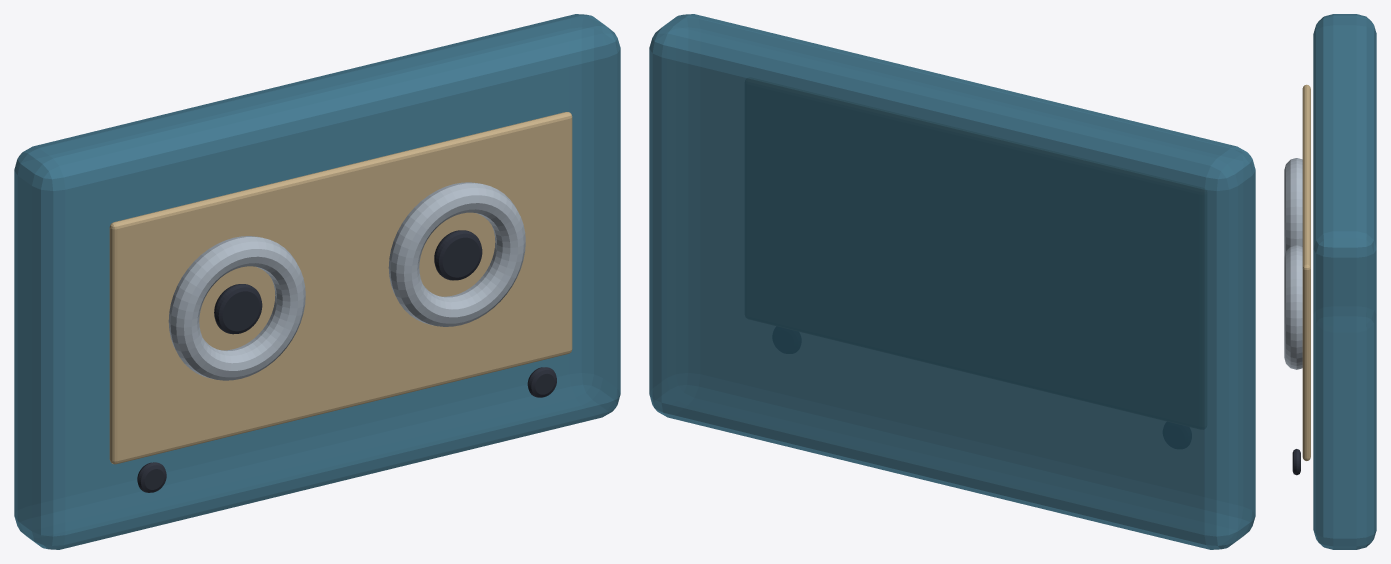
Rendered from cassette-collector.glb.
3 renders of one model, left to right at view 1: azimuth 30°, elevation 25°; view 2: azimuth 150°, elevation 25°; view 3: azimuth 270°, elevation 25°, orthographic. The views are drawn at different scales.
Visible parts, largest first — view 1: Cassette, Etiquette, Bobine.001, Bobine, Moyeu, Moyeu.001, Trou.001, Trou; view 2: Cassette; view 3: Cassette, Etiquette, Bobine.001, Bobine, Trou.001.
Boxes of the visible parts, box(x1,y1,x2,y2) form: Cassette: box(14, 14, 620, 549); Etiquette: box(109, 112, 572, 464); Bobine.001: box(388, 182, 525, 326); Bobine: box(168, 236, 305, 380); Moyeu: box(214, 284, 262, 334); Moyeu.001: box(434, 230, 482, 280); Trou.001: box(527, 367, 556, 397); Trou: box(137, 462, 166, 492); Cassette: box(649, 14, 1255, 549); Cassette: box(1313, 14, 1376, 549); Etiquette: box(1302, 84, 1310, 460); Bobine.001: box(1284, 245, 1302, 369); Bobine: box(1284, 158, 1302, 256); Trou.001: box(1292, 449, 1300, 475).
Bounding box in the file's own units: 3.3 × 2.1 × 0.555.
